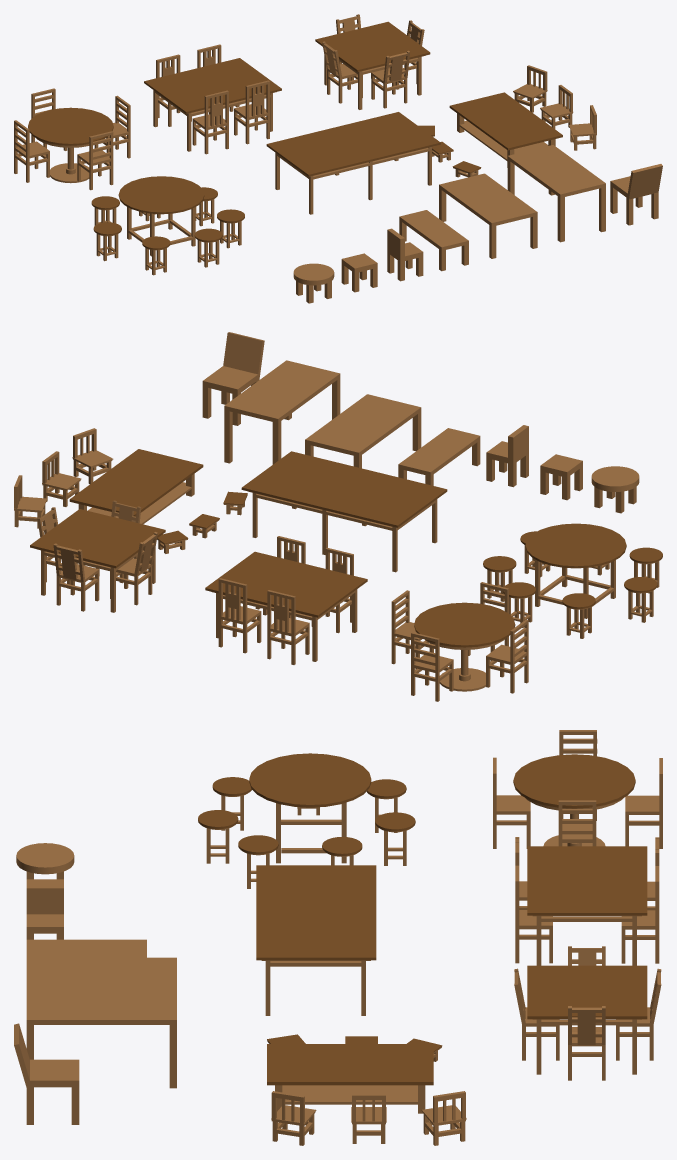
Rendered from tableandchair.fbx.
The picture shows the model from 3 angles, top to bottom: view 1: azimuth 30°, elevation 25°; view 2: azimuth 150°, elevation 25°; view 3: azimuth 270°, elevation 25°; orthographic projection. The views are drawn at different scales.
Parts seen in each view (by area): view 1: mergedBlocks; view 2: mergedBlocks; view 3: mergedBlocks.
Part boxes in pixels (left/top/right/bottom): mergedBlocks: left=14, top=14, right=662, bottom=303; mergedBlocks: left=14, top=332, right=662, bottom=701; mergedBlocks: left=14, top=730, right=662, bottom=1145.
Bounding box in the file's own units: 217 × 27.37 × 172.
